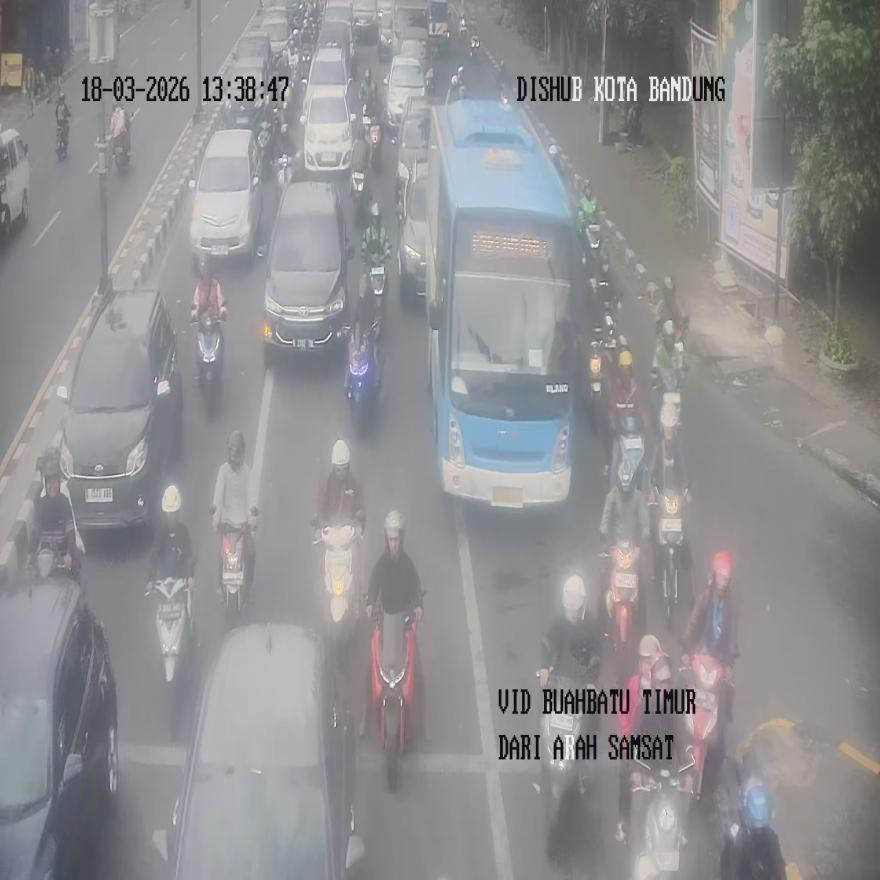Mobil: (167, 622, 363, 879), (0, 576, 119, 878), (57, 288, 182, 531), (261, 180, 354, 363), (188, 127, 263, 271)
bus: (424, 100, 580, 507)
